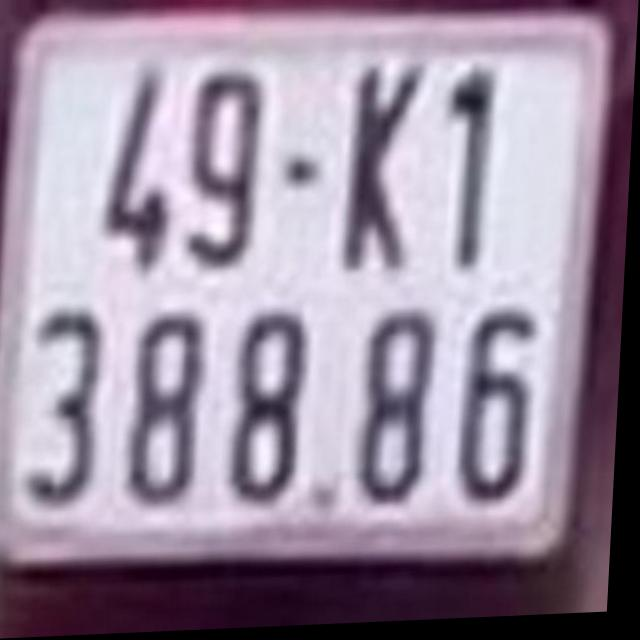1: (446, 64, 497, 274)
3: (31, 309, 106, 503)
4: (101, 64, 180, 273)
6: (459, 307, 542, 508)
8: (133, 306, 210, 504), (238, 310, 306, 505), (370, 314, 436, 506)
9: (192, 72, 270, 273)
K: (348, 64, 424, 271)
